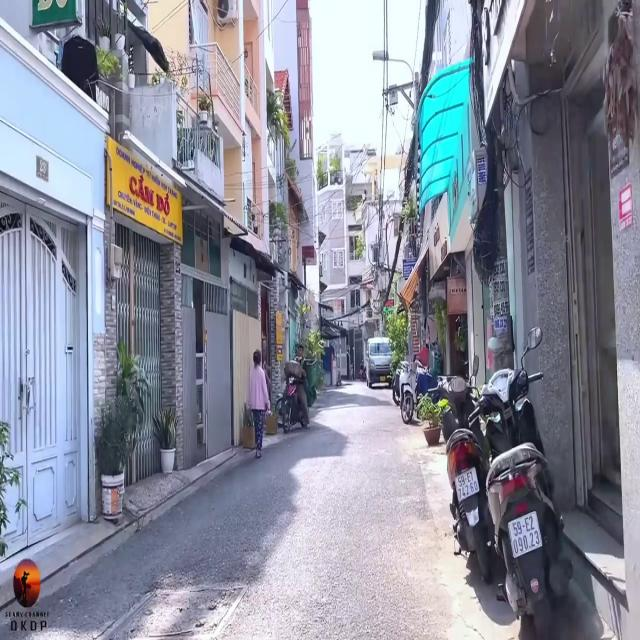bien_trang: (510, 514, 544, 554), (450, 465, 484, 504)
